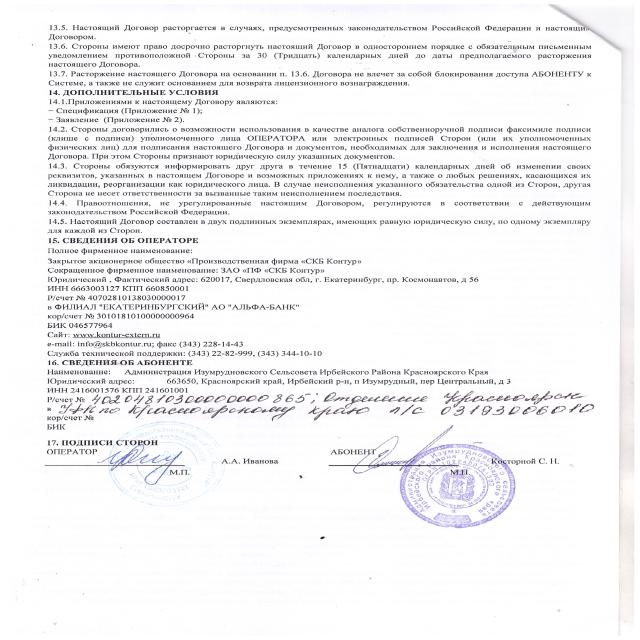stamps: (314, 409, 581, 566), (81, 368, 236, 556)
